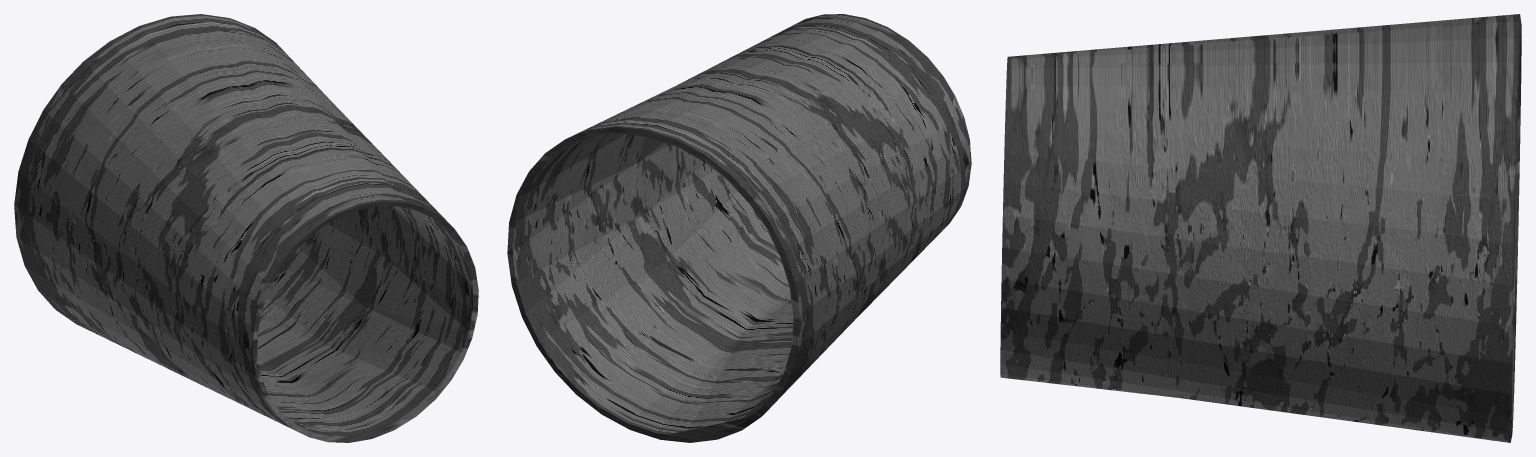
Rendered from lampara2.dae.
3 renders of one model, left to right at view 1: azimuth 30°, elevation 25°; view 2: azimuth 150°, elevation 25°; view 3: azimuth 270°, elevation 25°, orthographic. The views are drawn at different scales.
Visible parts, largest first — view 1: node; view 2: node; view 3: node.
Part boxes in pixels (x1,y1,x2,y2): node: (14, 14, 478, 442); node: (507, 14, 971, 442); node: (1000, 14, 1521, 442).
Size of the model in its own units: 149 by 149 by 181.
Materials: 1 (1 with a texture image).
